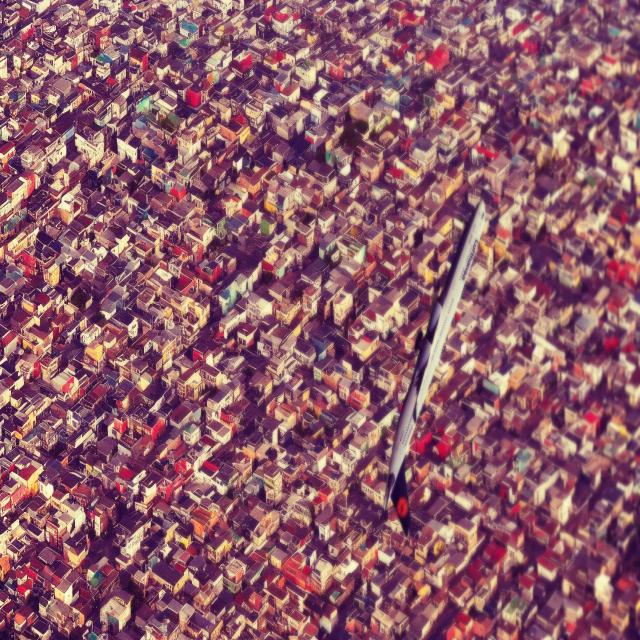airplane: (382, 198, 487, 537)
